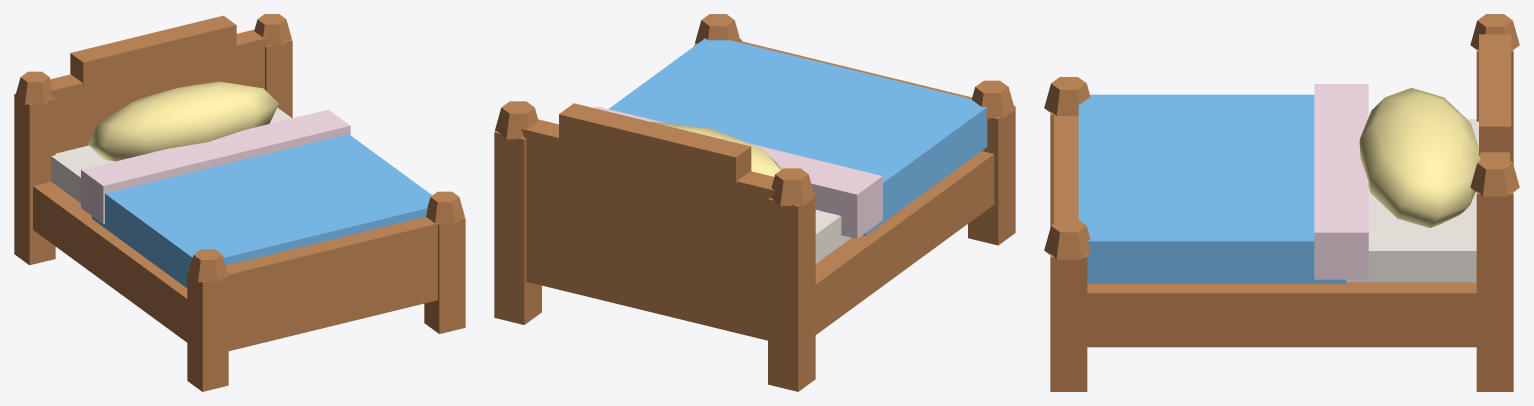
File: bed_prop.glb
3 views of the same model, side by side, from view 1: azimuth 30°, elevation 25°; view 2: azimuth 150°, elevation 25°; view 3: azimuth 270°, elevation 25° (orthographic). The views are drawn at different scales.
Parts seen in each view (by area): view 1: bed_prop; view 2: bed_prop; view 3: bed_prop.
Boxes of the visible parts, bbox=[...] form: bed_prop: bbox=[14, 14, 465, 391]; bed_prop: bbox=[494, 14, 1015, 391]; bed_prop: bbox=[1044, 14, 1519, 391].
Size of the model in its own units: 0.7666 by 0.5175 by 0.96.
